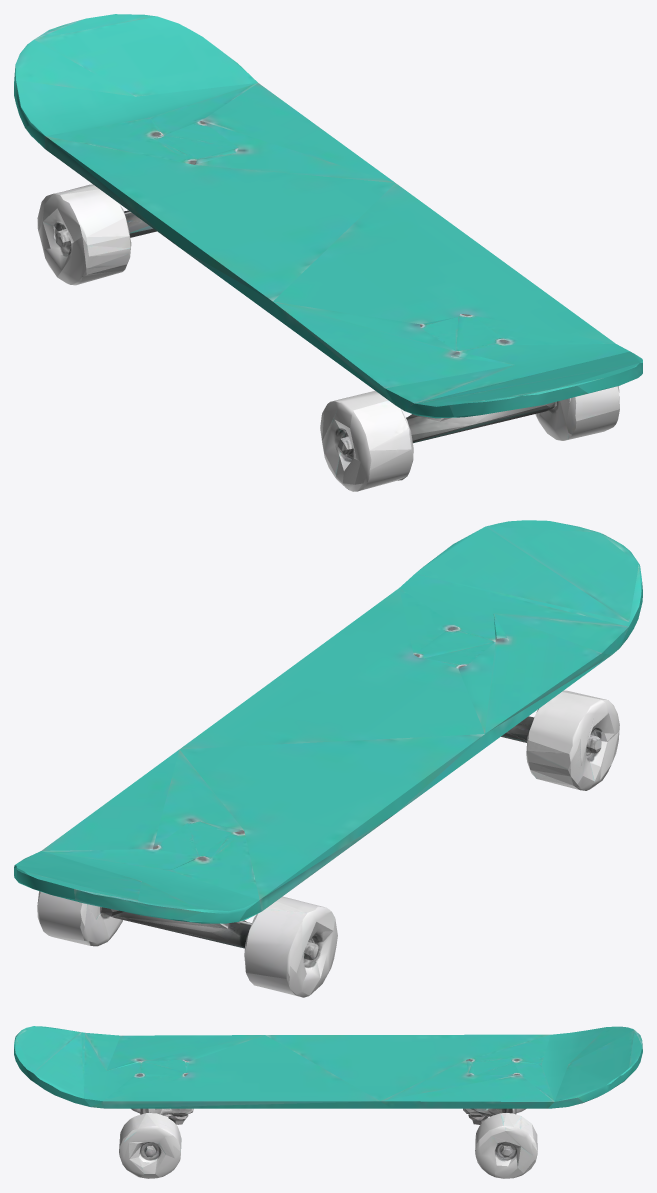
Rendered from skateboard.glb.
3 views of the same model, one above another, from view 1: azimuth 30°, elevation 25°; view 2: azimuth 150°, elevation 25°; view 3: azimuth 270°, elevation 25° (orthographic). The views are drawn at different scales.
Visible parts, largest first — view 1: Mesh_0; view 2: Mesh_0; view 3: Mesh_0.
Boxes of the visible parts, x1,y1,x2,y2 form: Mesh_0: [14, 14, 642, 491]; Mesh_0: [14, 520, 642, 997]; Mesh_0: [14, 1026, 642, 1178].
Size of the model in its own units: 0.2415 by 0.135 by 0.8.
1 material, 1 textured.
